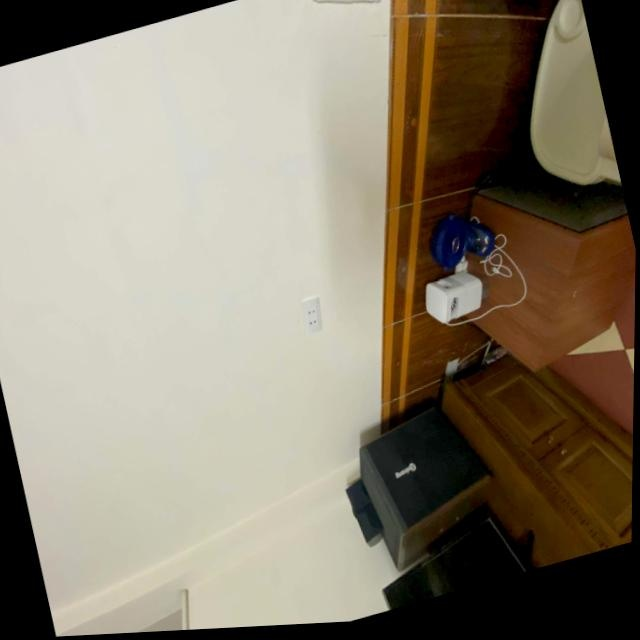outlet: (298, 294, 326, 335)
